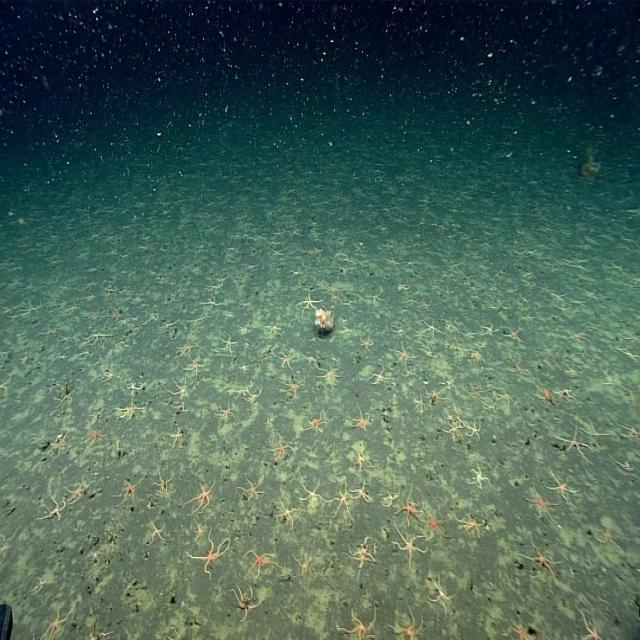brittle-stars: (185, 526, 231, 578), (519, 538, 563, 587), (392, 526, 429, 574), (554, 421, 594, 465), (336, 601, 377, 640), (37, 599, 76, 640), (328, 476, 358, 525), (184, 475, 217, 516), (427, 574, 455, 622), (528, 483, 558, 525), (343, 534, 378, 570), (229, 582, 260, 622), (243, 549, 282, 580), (388, 604, 420, 640), (421, 506, 451, 543), (545, 465, 574, 503), (298, 478, 331, 510), (393, 494, 426, 524), (34, 493, 66, 523), (576, 605, 603, 640), (51, 379, 77, 415), (454, 510, 484, 540), (114, 393, 146, 421), (237, 474, 265, 505), (349, 473, 374, 507), (390, 340, 418, 369), (313, 362, 341, 390), (268, 430, 294, 459), (300, 408, 328, 434), (274, 498, 298, 528), (64, 474, 85, 508), (441, 415, 466, 443), (111, 477, 136, 505), (467, 462, 491, 490), (152, 468, 175, 497), (213, 398, 236, 427), (294, 292, 324, 314), (436, 370, 460, 396), (381, 482, 403, 509), (167, 374, 188, 402), (534, 383, 558, 407), (291, 546, 310, 576), (352, 406, 372, 434), (353, 442, 370, 473), (174, 338, 199, 359), (48, 433, 68, 459), (242, 380, 262, 406), (420, 316, 443, 338), (465, 415, 483, 443), (166, 423, 184, 451), (86, 422, 107, 446), (280, 376, 300, 400), (81, 329, 112, 344), (278, 345, 295, 372), (218, 332, 238, 354), (183, 358, 204, 378), (98, 365, 120, 383), (190, 517, 207, 540), (198, 293, 221, 310), (496, 389, 516, 408), (370, 368, 391, 386), (359, 329, 373, 356), (500, 325, 522, 342), (123, 378, 142, 397), (150, 522, 167, 542), (412, 392, 426, 414), (266, 317, 282, 336)
